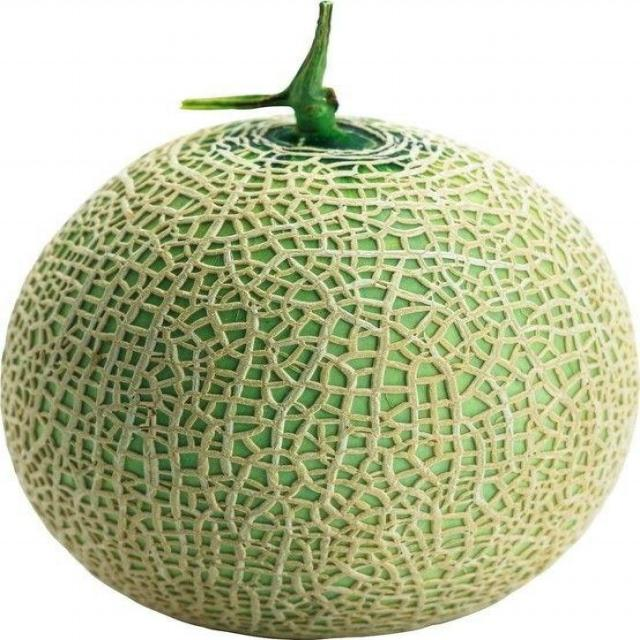melon: (2, 146, 639, 640)
